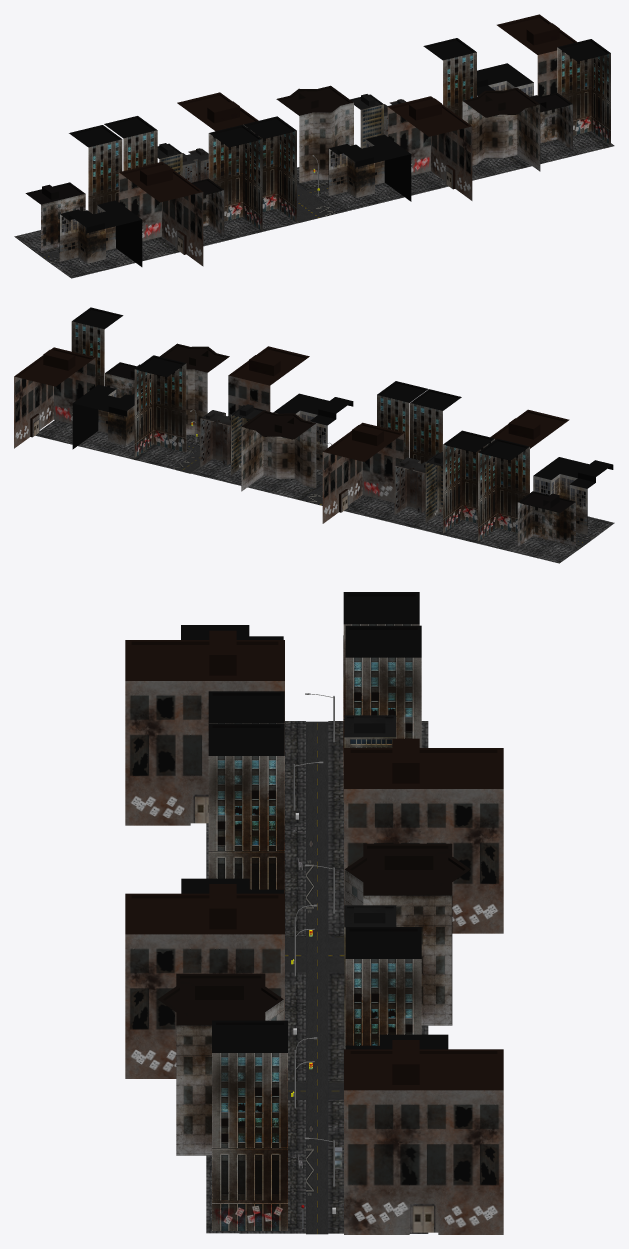
Rendered from CityPatch1_Final.fbx.
The picture shows the model from 3 angles, top to bottom: view 1: azimuth 30°, elevation 25°; view 2: azimuth 150°, elevation 25°; view 3: azimuth 270°, elevation 25°; orthographic projection. The views are drawn at different scales.
Visible parts, largest first — view 1: camera2; view 2: camera2; view 3: camera2, road_geo1.
Boxes of the visible parts, x1,y1,x2,y2 form: camera2: (14, 14, 614, 278); camera2: (14, 307, 614, 563); camera2: (125, 592, 503, 1234); road_geo1: (306, 721, 328, 1234).
Size of the model in its own units: 76914 by 12489 by 23934.
